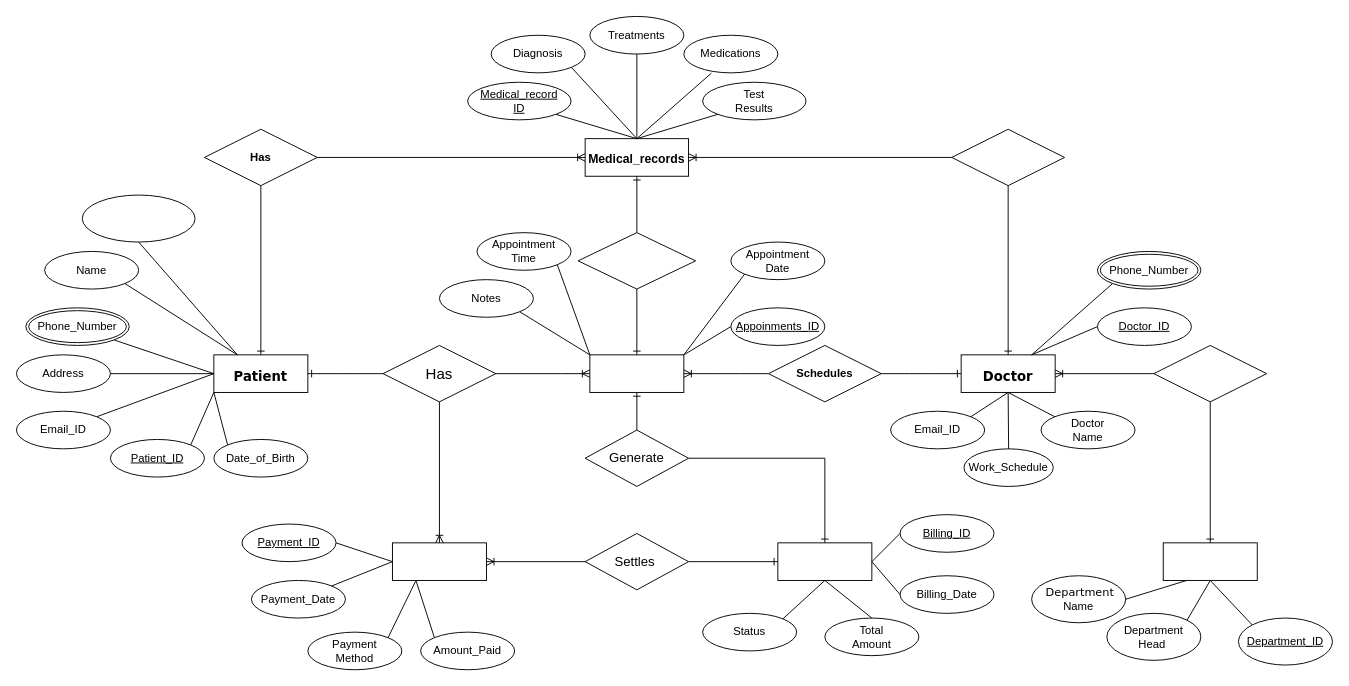
Image size: 1349x686. Some labels were removed from this diagram. The shapes that lost their labels are listed below. From the top down, each one's box as (x1, y1, x2, y2) in pixels, then its label:
(951, 128, 1065, 186): Documents
(81, 194, 195, 242): Insurance Details
(577, 232, 696, 289): Updates
(589, 354, 684, 392): Appoinments
(1153, 345, 1267, 402): Belongs
(392, 542, 486, 580): Payment
(777, 542, 872, 580): Billing
(1162, 542, 1257, 580): Department
